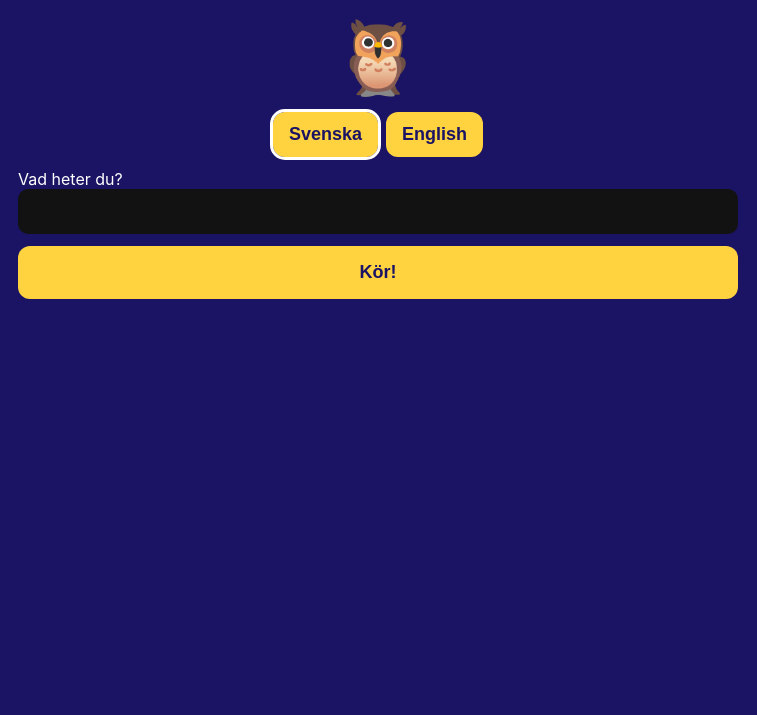
Test: App › wrong answer shows the explanation
Type "Elsa" into the field labelled "Vad heter du?" at (378, 212), box [18,189,738,234]
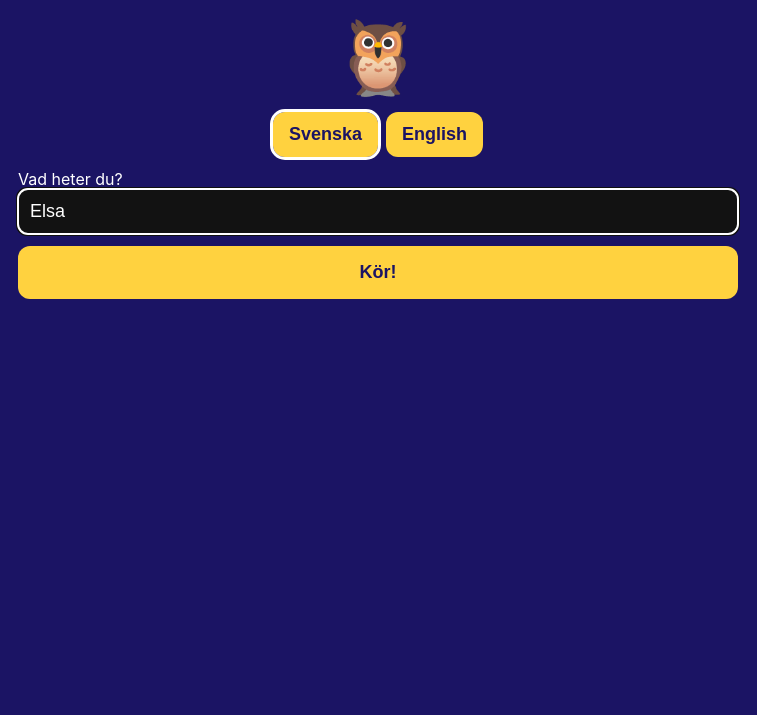
Click the button "Kör!" at (378, 272), box [18,246,738,299]
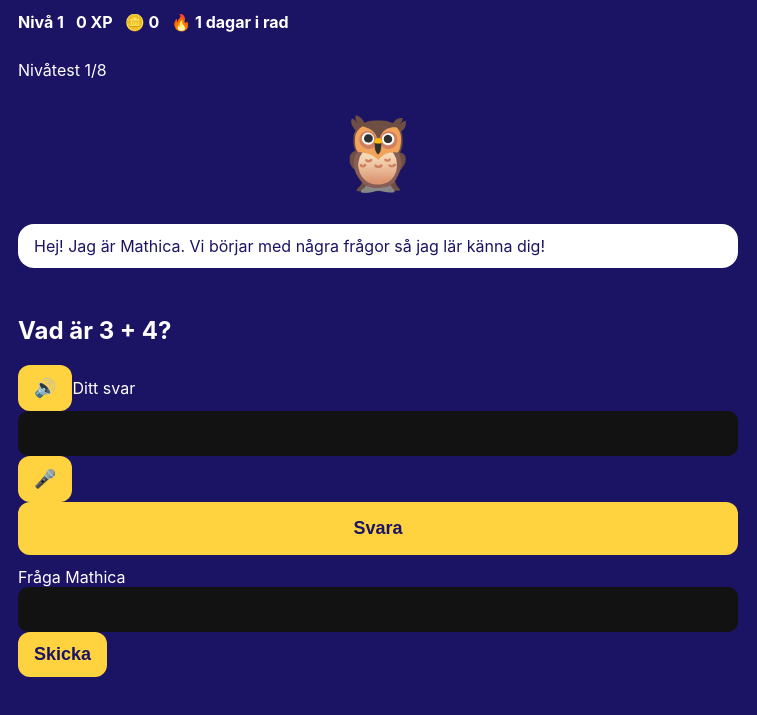
Now the heading "Vad är 3 + 4?" is shown, box [18,316,172,345]
Type "8" into the field labelled "Ditt svar" at (378, 433), box [18,411,738,456]
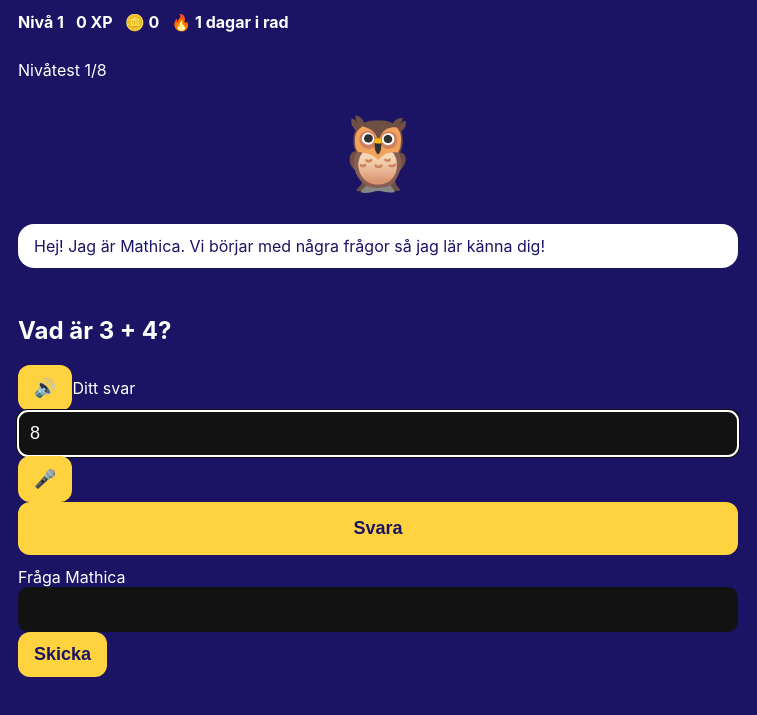
Click the button "Svara" at (378, 528), box [18,502,738,555]
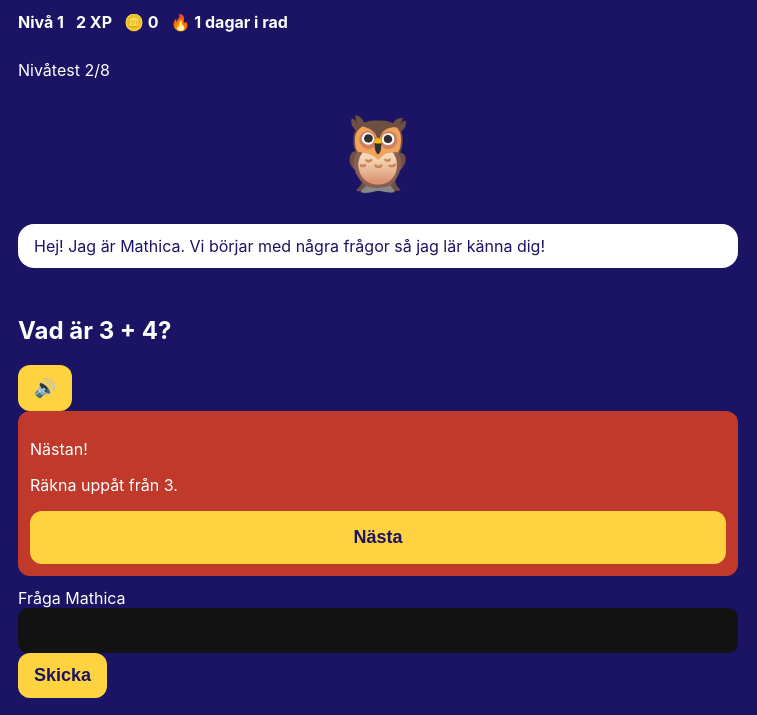
Now the text "Räkna uppåt från 3." is shown, box [30,475,178,495]
